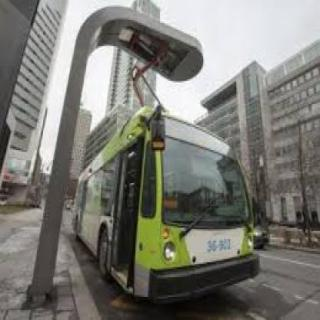Normal_vehicle: (69, 97, 274, 300)
